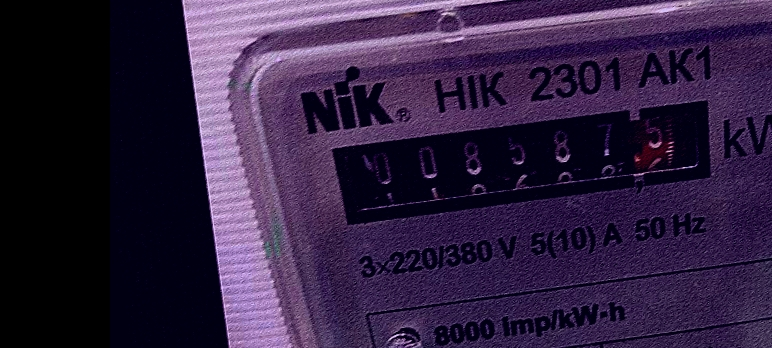0: (413, 138, 442, 181)
1: (368, 145, 397, 188)
5: (640, 109, 670, 152), (504, 127, 532, 168)
7: (592, 116, 620, 160)
8: (457, 134, 487, 178), (548, 123, 575, 166)
screen: (310, 74, 740, 248)
